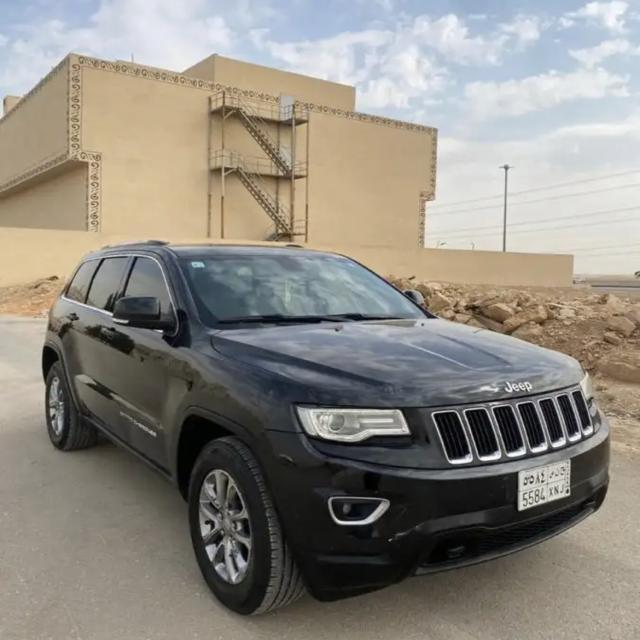license_plate: (516, 459, 576, 509)
